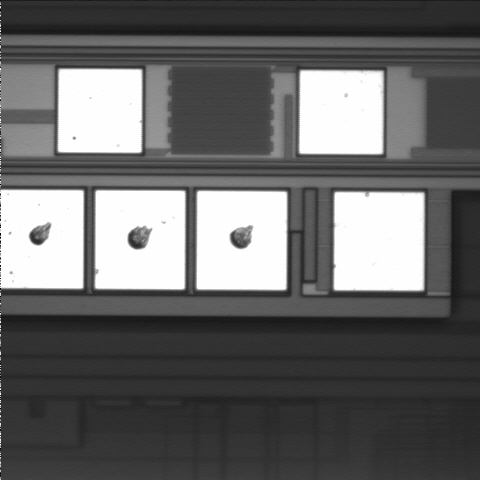pad: (95, 190, 185, 289), (197, 191, 287, 290), (334, 192, 424, 290), (58, 69, 142, 153), (299, 71, 383, 154)
